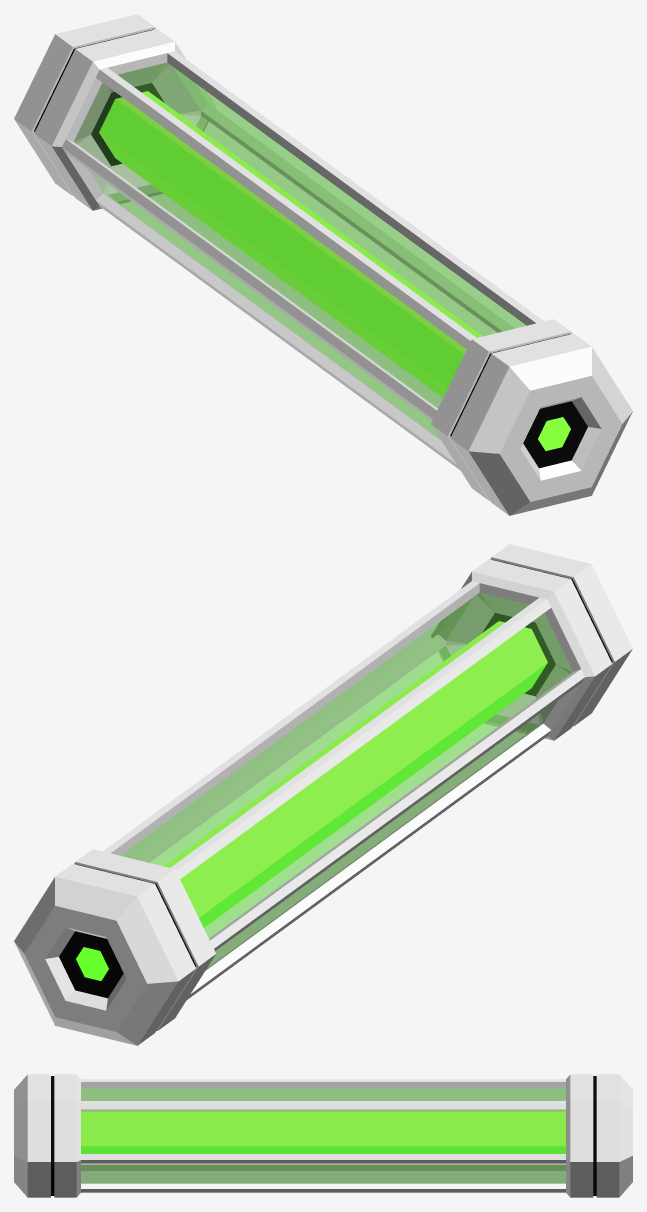
File: SM_Uranium_Fuel_Rod.fbx
The picture shows the model from 3 angles, top to bottom: view 1: azimuth 30°, elevation 25°; view 2: azimuth 150°, elevation 25°; view 3: azimuth 270°, elevation 25°; orthographic projection. The views are drawn at different scales.
Visible parts, largest first — view 1: SM_Uranium_Fuel_Rod; view 2: SM_Uranium_Fuel_Rod; view 3: SM_Uranium_Fuel_Rod.
Part boxes in pixels (box(x1,y1,x2,y2)): SM_Uranium_Fuel_Rod: box(14, 14, 632, 515); SM_Uranium_Fuel_Rod: box(14, 544, 632, 1045); SM_Uranium_Fuel_Rod: box(14, 1074, 632, 1197).
Size of the model in its own units: 8 by 6.93 by 40.
